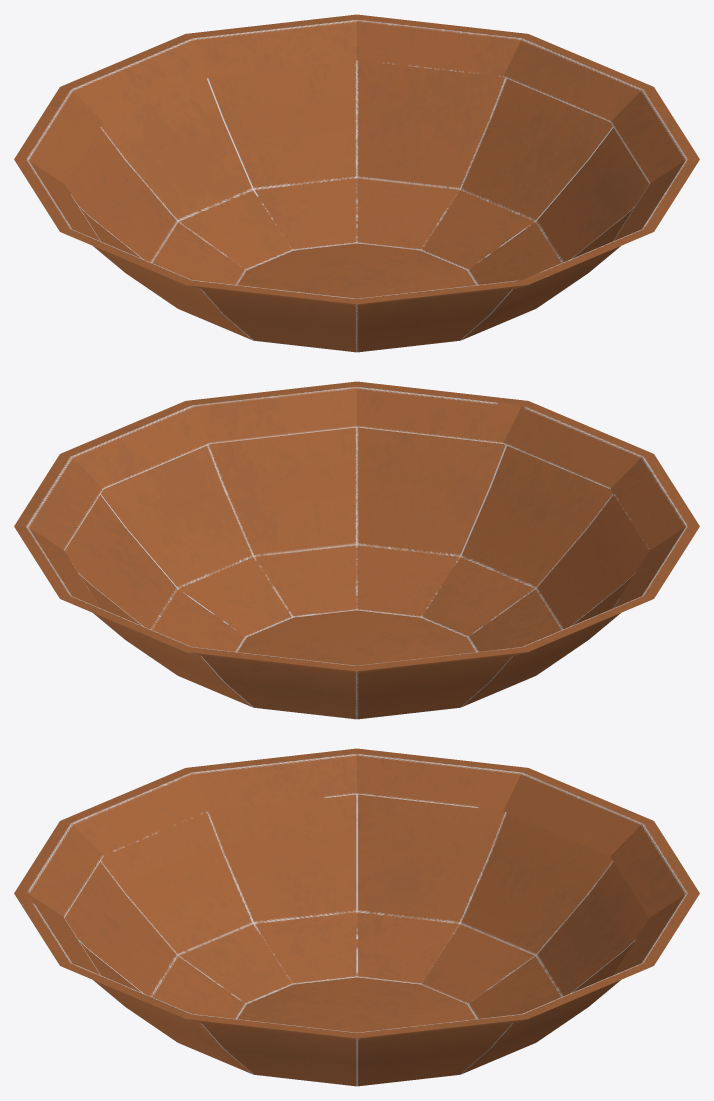
Rendered from crema4.glb.
The picture shows the model from 3 angles, top to bottom: view 1: azimuth 30°, elevation 25°; view 2: azimuth 150°, elevation 25°; view 3: azimuth 270°, elevation 25°; orthographic projection.
Parts seen in each view (by area): view 1: Plato3; view 2: Plato3; view 3: Plato3.
Part boxes in pixels (<box>): Plato3: <box>14,14,699,352</box>; Plato3: <box>14,381,699,719</box>; Plato3: <box>14,748,699,1086</box>.
Bounding box in the file's own units: 2.3 × 0.5109 × 2.3.
1 material, 1 textured.
